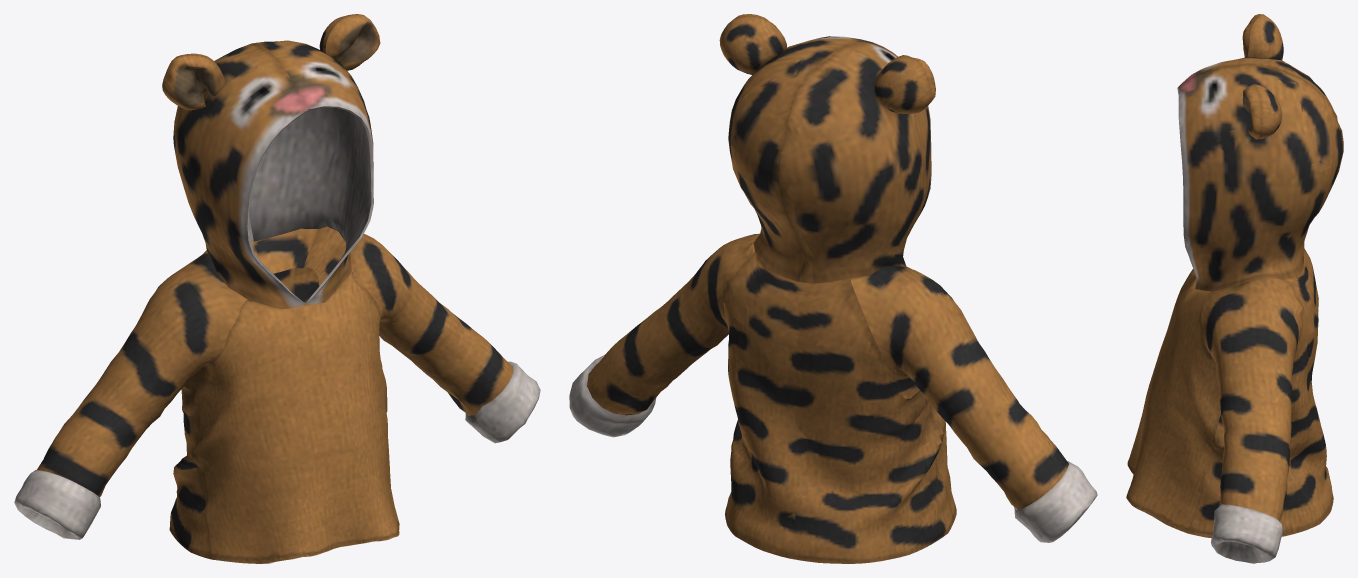
The model's file is top2.glb.
3 views of the same model, side by side, from view 1: azimuth 30°, elevation 25°; view 2: azimuth 150°, elevation 25°; view 3: azimuth 270°, elevation 25° (orthographic). The views are drawn at different scales.
Parts seen in each view (by area): view 1: s4studio_mesh_1; view 2: s4studio_mesh_1; view 3: s4studio_mesh_1.
Part boxes in pixels (box(x1,y1,x2,y2)): s4studio_mesh_1: box(14, 14, 540, 563); s4studio_mesh_1: box(569, 14, 1097, 563); s4studio_mesh_1: box(1126, 14, 1343, 563).
Size of the model in its own units: 0.5413 by 0.494 by 0.2183.
Materials: 1 (1 with a texture image).
